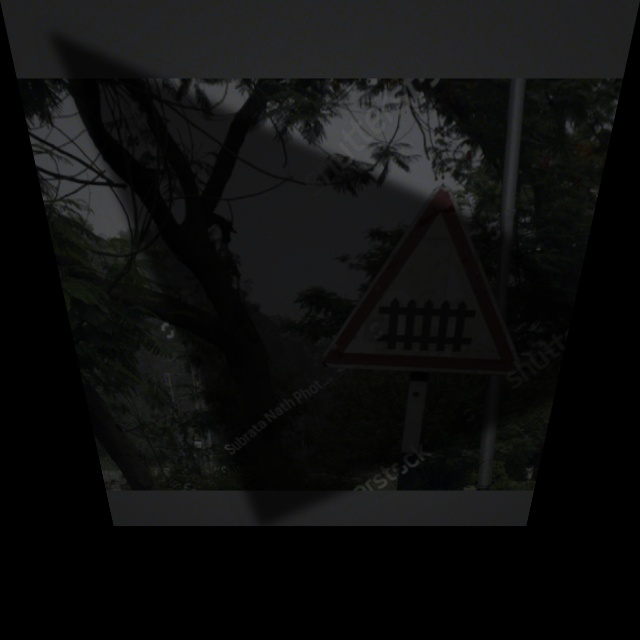Guarded_Level_Crossing: (325, 192, 554, 372)
